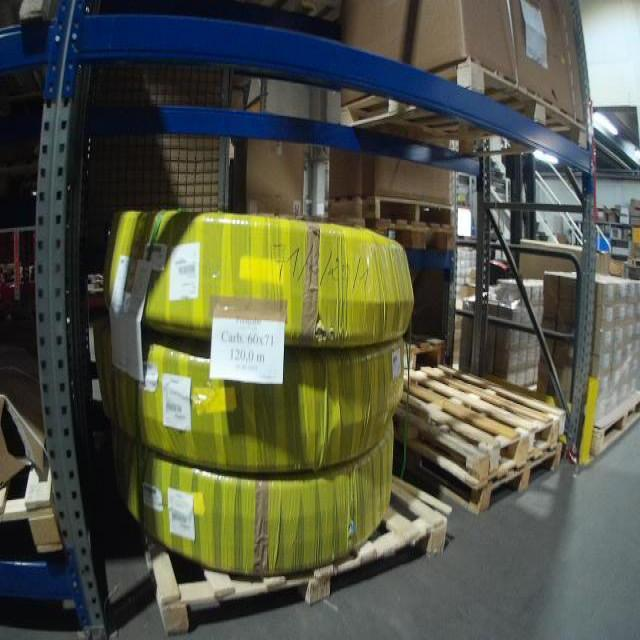pallet: (146, 466, 450, 637), (337, 56, 589, 162), (388, 361, 567, 491), (393, 431, 566, 518), (1, 449, 66, 549), (330, 190, 456, 227), (589, 391, 640, 461), (364, 220, 456, 252)
pallet_truck: (481, 144, 550, 289)
stillage: (77, 40, 263, 278)
